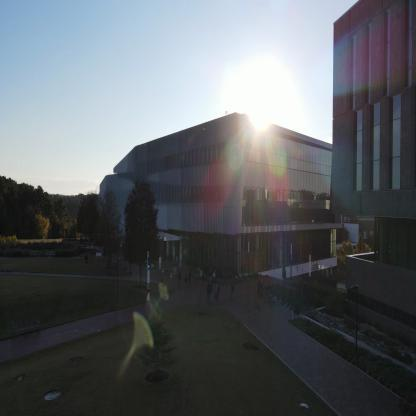Fitts- Woolard: (326, 0, 415, 369)
Hunt Library: (85, 75, 327, 312)
